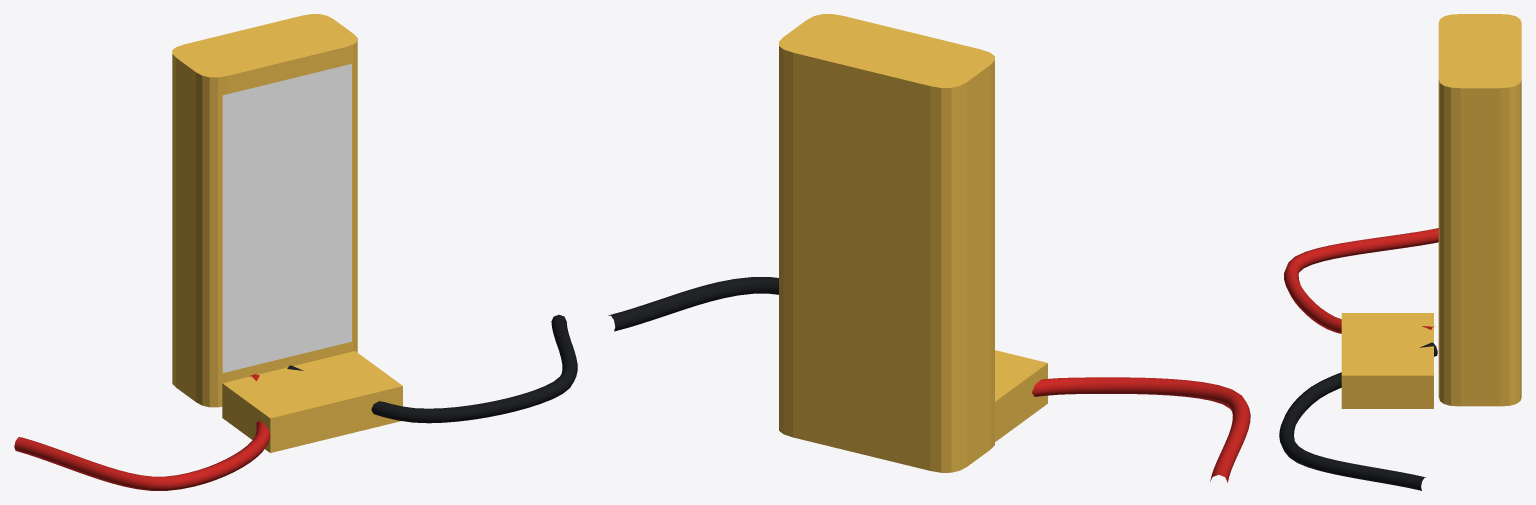
Rendered from toolkit--multimeter.glb.
3 renders of one model, left to right at view 1: azimuth 30°, elevation 25°; view 2: azimuth 150°, elevation 25°; view 3: azimuth 270°, elevation 25°, orthographic. The views are drawn at different scales.
Visible parts, largest first — view 1: multimeter:shell, screen, leadRed, leadBlack; view 2: multimeter:shell, leadRed, leadBlack; view 3: multimeter:shell, leadBlack, leadRed.
Boxes of the visible parts, box(x1,y1,x2,y2) form: multimeter:shell: box(172, 14, 402, 452); screen: box(222, 64, 351, 372); leadRed: box(14, 374, 270, 490); leadBlack: box(287, 314, 577, 423); multimeter:shell: box(779, 14, 1047, 472); leadRed: box(1032, 377, 1250, 482); leadBlack: box(608, 277, 778, 331); multimeter:shell: box(1341, 14, 1521, 408); leadBlack: box(1279, 342, 1437, 490); leadRed: box(1284, 228, 1438, 333).
Size of the model in its own units: 0.3271 by 0.195 by 0.1312.
